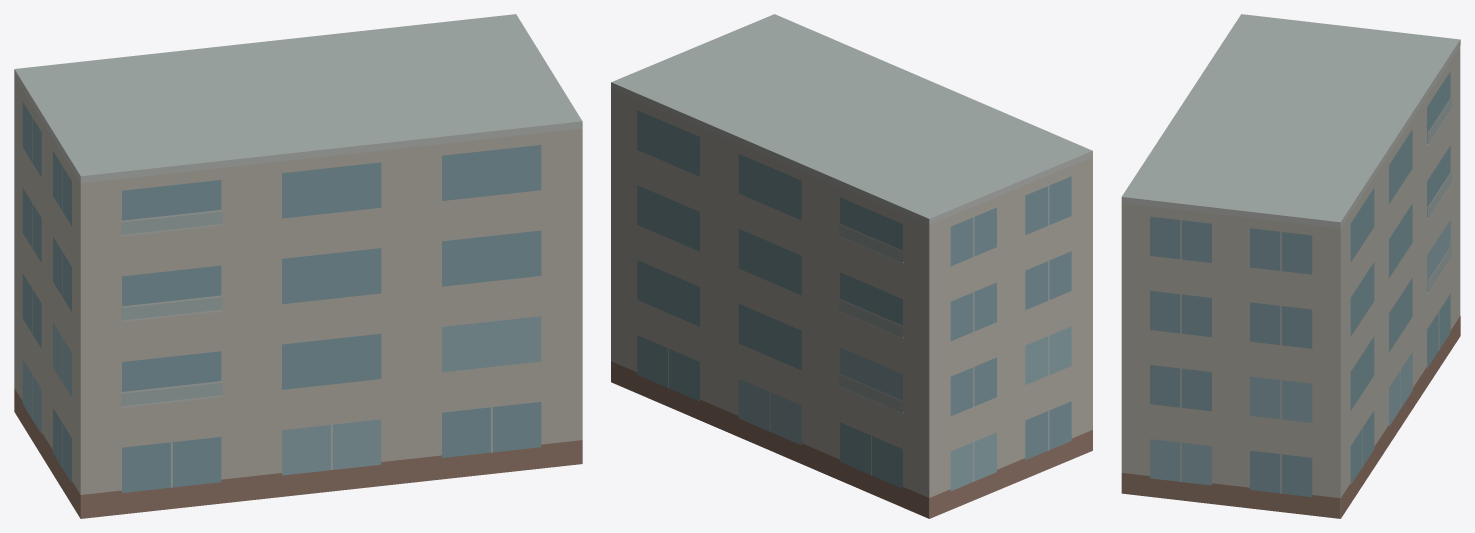
Rendered from survey-upis-32940185.glb.
3 views of the same model, side by side, from view 1: azimuth 30°, elevation 25°; view 2: azimuth 150°, elevation 25°; view 3: azimuth 270°, elevation 25° (orthographic). The views are drawn at different scales.
Parts seen in each view (by area): view 1: survey-upis-32940185.tmp; view 2: survey-upis-32940185.tmp; view 3: survey-upis-32940185.tmp.
Boxes of the visible parts, left/top/right/bottom form: survey-upis-32940185.tmp: left=14, top=14, right=582, bottom=518; survey-upis-32940185.tmp: left=611, top=14, right=1092, bottom=518; survey-upis-32940185.tmp: left=1121, top=14, right=1460, bottom=518.
Size of the model in its own units: 17.7 by 11.75 by 12.18.
